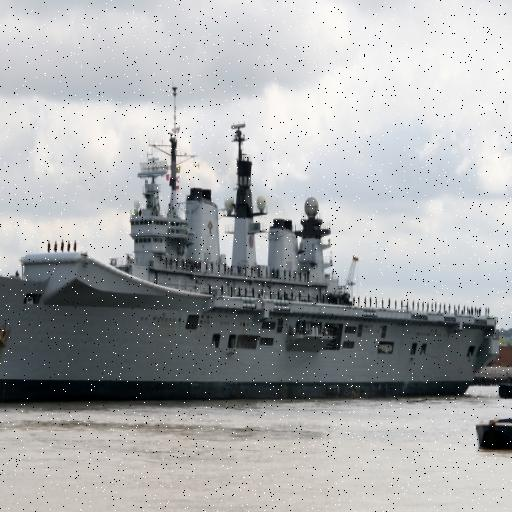Portanaves: (1, 77, 498, 413)
